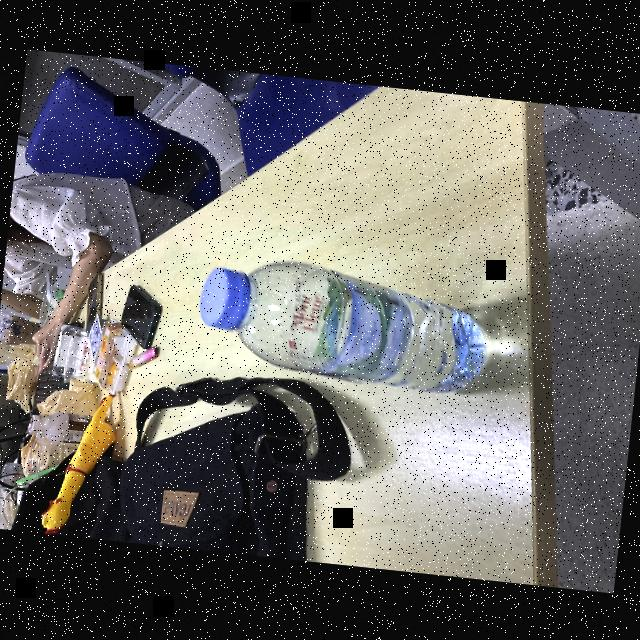plastic_bag: (15, 374, 106, 489), (3, 354, 41, 412), (0, 458, 23, 529), (0, 338, 38, 368)
plastic_bottle: (176, 231, 507, 428), (26, 408, 98, 446)
plastic_bottle_cap: (198, 264, 256, 332)
plastic_box: (90, 316, 134, 392), (53, 322, 94, 383)
plastic_cup: (0, 310, 44, 347), (36, 281, 66, 329)
plastic_spoon: (42, 270, 58, 306)
